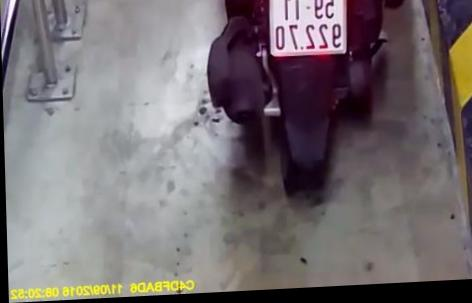License_Plate: (250, 0, 356, 59)
